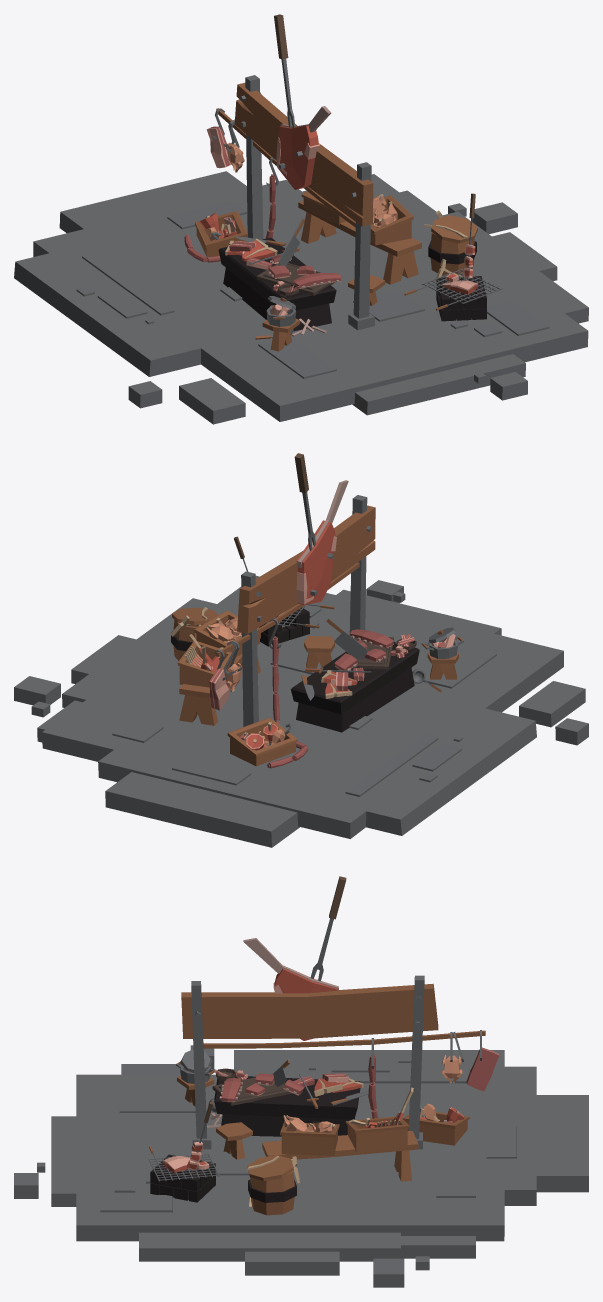
The model's file is MeatStand.fbx.
3 views of the same model, one above another, from view 1: azimuth 30°, elevation 25°; view 2: azimuth 150°, elevation 25°; view 3: azimuth 270°, elevation 25° (orthographic).
Parts seen in each view (by area): view 1: MeatStand; view 2: MeatStand; view 3: MeatStand.
Boxes of the visible parts, x1=… form: MeatStand: x1=14, y1=14, x2=588, y2=424; MeatStand: x1=14, y1=453, x2=588, y2=847; MeatStand: x1=14, y1=876, x2=588, y2=1287.
Size of the model in its own units: 559 by 325 by 593.
Materials: 1 (1 with a texture image).
